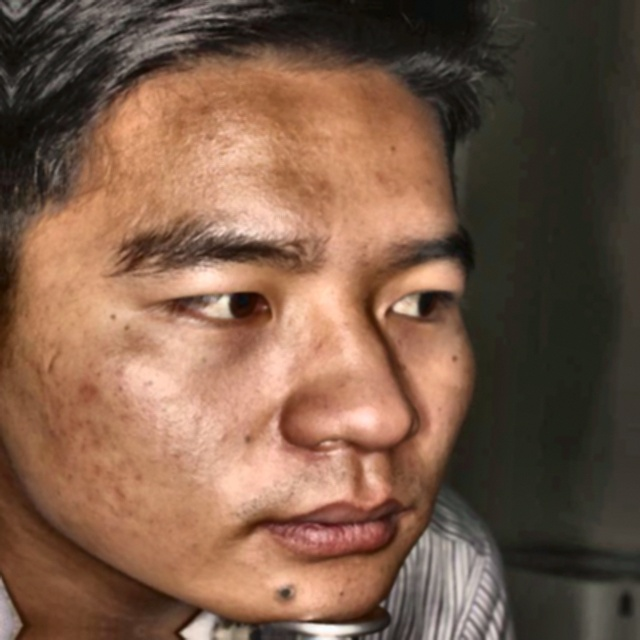comedone: (66, 378, 108, 411)
